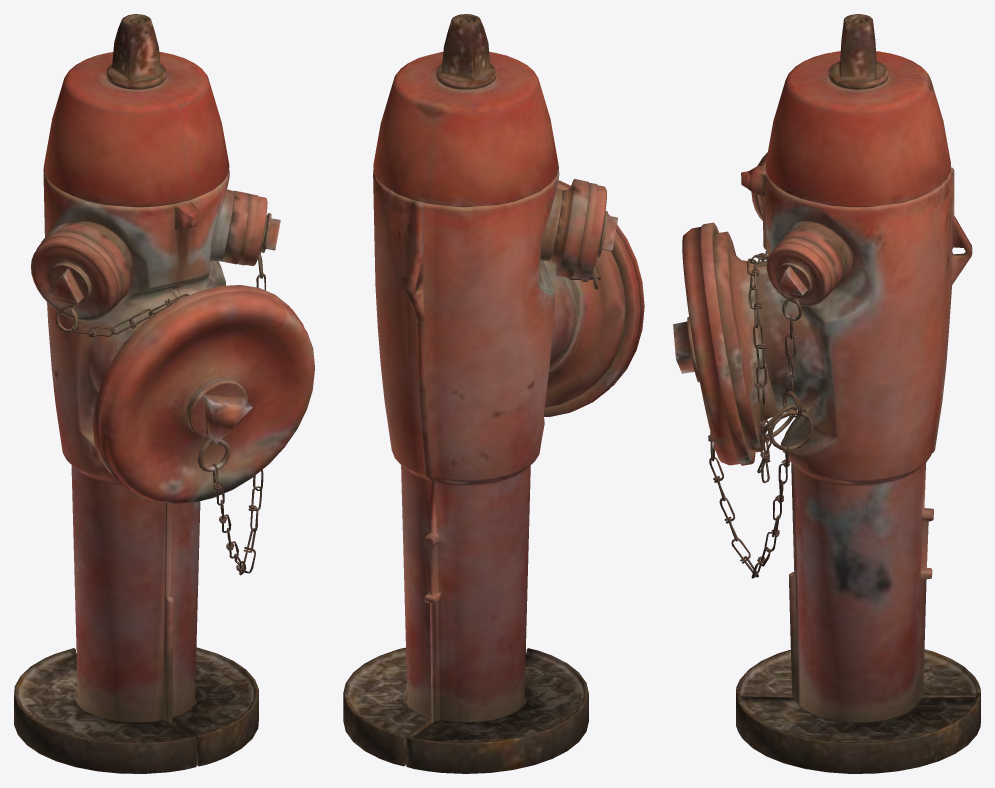
The model's file is fire_hydrant.glb.
3 renders of one model, left to right at view 1: azimuth 30°, elevation 25°; view 2: azimuth 150°, elevation 25°; view 3: azimuth 270°, elevation 25°, orthographic.
Parts seen in each view (by area): view 1: fire_hydrant_aged, fire_hydrant_cap_01_aged, fire_hydrant_cap_03_aged, fire_hydrant_chain_aged, fire_hydrant_cap_02_aged; view 2: fire_hydrant_aged, fire_hydrant_cap_01_aged, fire_hydrant_cap_03_aged; view 3: fire_hydrant_aged, fire_hydrant_cap_01_aged, fire_hydrant_chain_aged, fire_hydrant_cap_02_aged.
Part boxes in pixels (x1,y1,x2,y2): fire_hydrant_aged: (14,14,258,773); fire_hydrant_cap_01_aged: (92,285,314,503); fire_hydrant_cap_03_aged: (31,231,122,321); fire_hydrant_chain_aged: (55,215,267,575); fire_hydrant_cap_02_aged: (237,194,280,265); fire_hydrant_aged: (343,14,625,773); fire_hydrant_cap_01_aged: (544,180,644,416); fire_hydrant_cap_03_aged: (572,182,617,279); fire_hydrant_aged: (713,14,980,773); fire_hydrant_cap_01_aged: (673,222,755,465); fire_hydrant_chain_aged: (708,250,813,578); fire_hydrant_cap_02_aged: (766,238,835,306).
Size of the model in its own units: 0.2746 by 0.7995 by 0.3173.
Materials: 1 (1 with a texture image).
